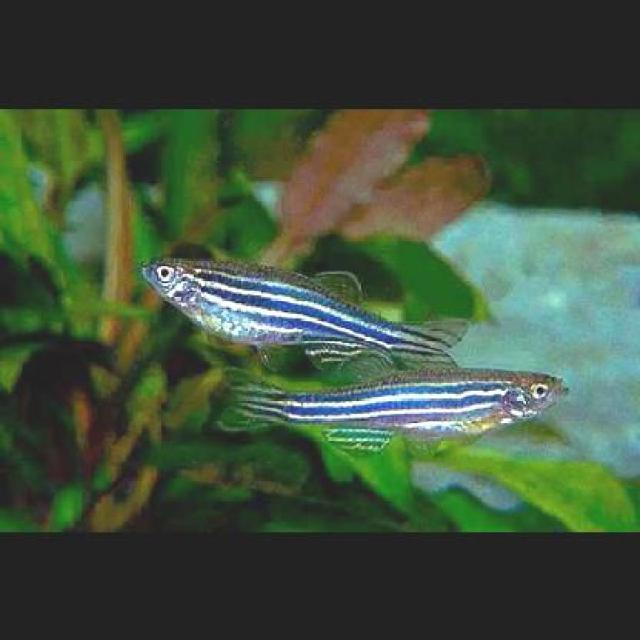ZebraFish: (138, 252, 468, 366), (220, 367, 568, 451)
